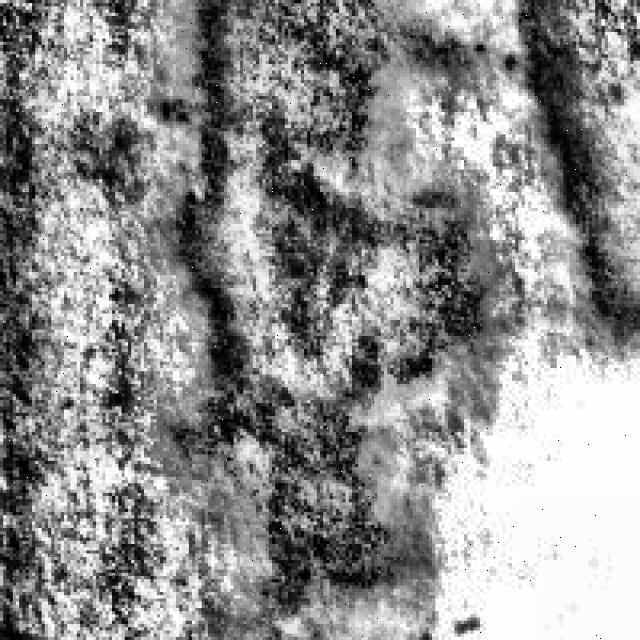Scratches: (170, 0, 483, 605), (525, 0, 640, 336)
